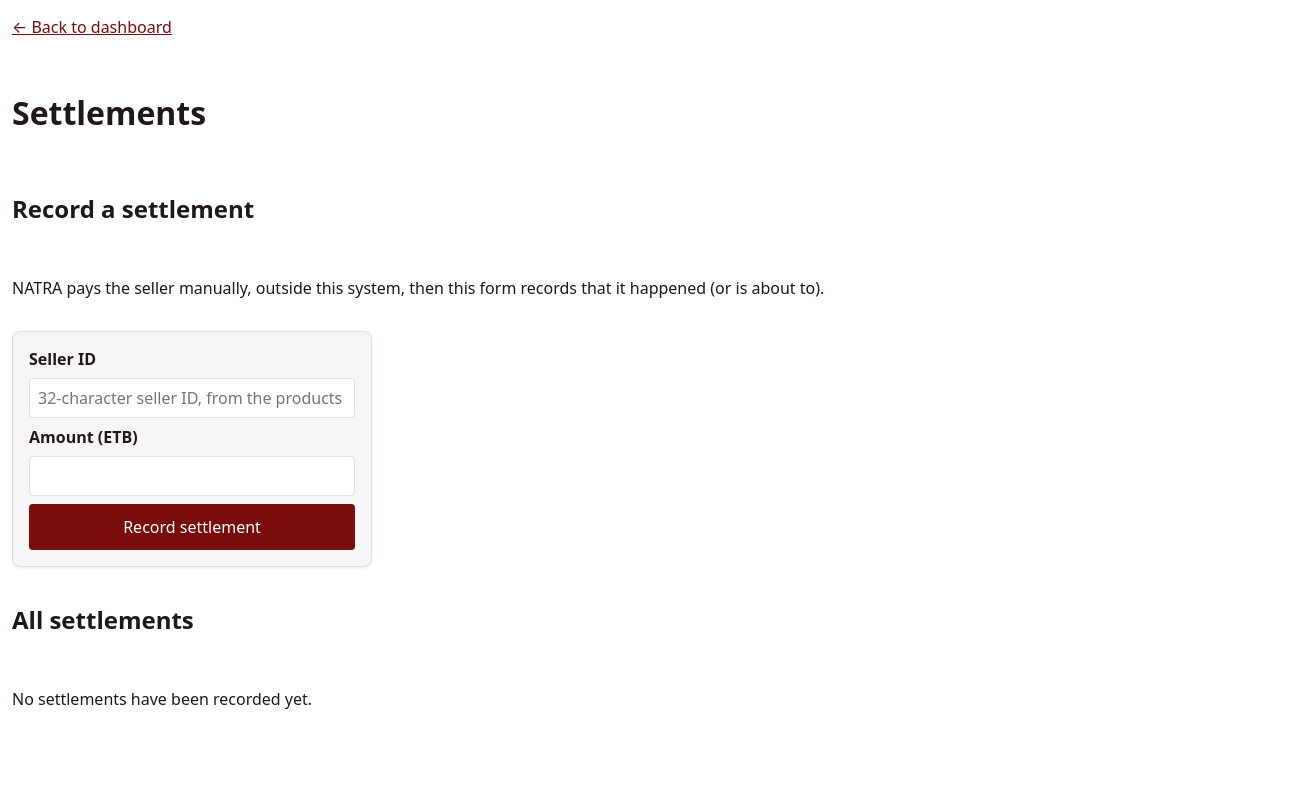
Test: AdminSettlements › records a settlement, prepends it to the list, and clears the form
Expected: the text "No settlements have been recorded yet." is shown, [12,688,312,710]
Type "  seller-1  " into the field labelled "Seller ID". click: (192, 398)
box: [29,378,355,418]
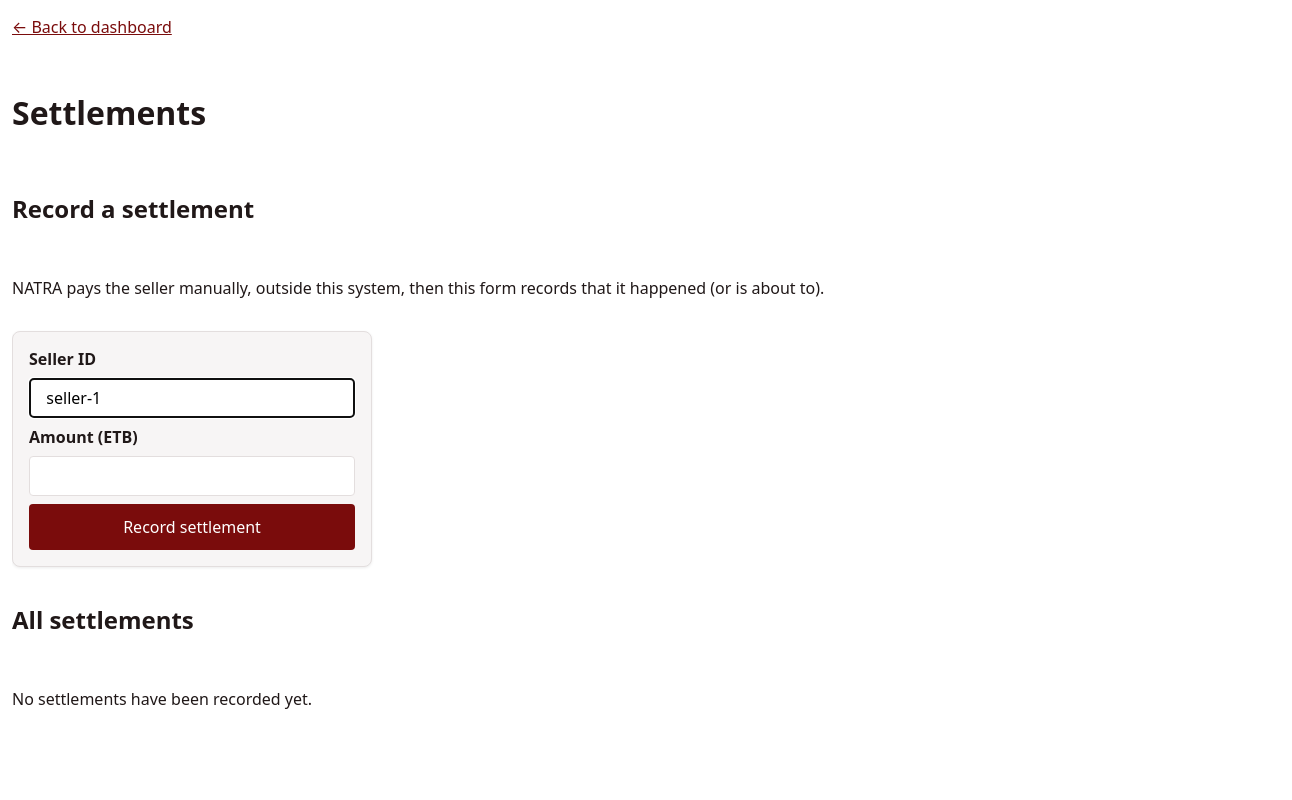
Type "450" into the number field labelled "Amount (ETB)". click: (192, 476)
box: [29,456,355,496]
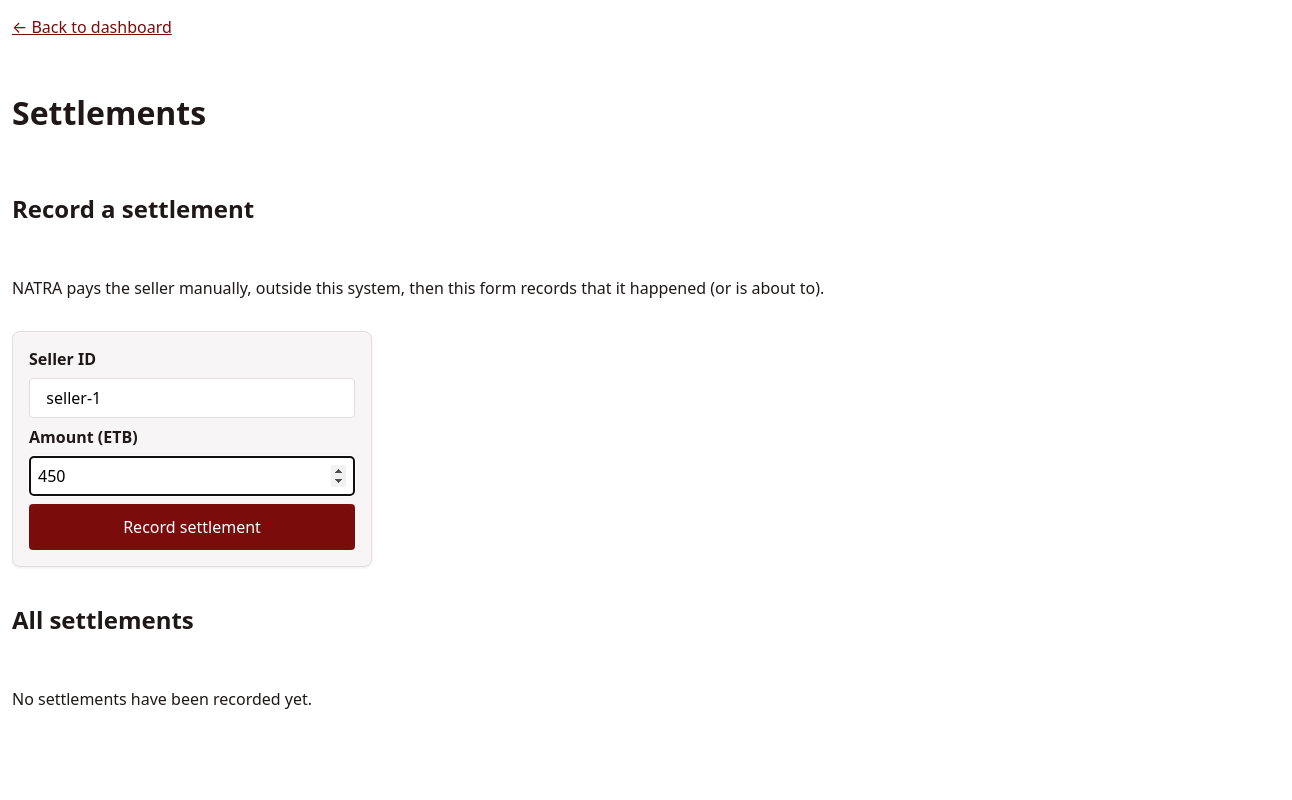
Click the button "Record settlement". click: (192, 527)
box: [29,504,355,550]
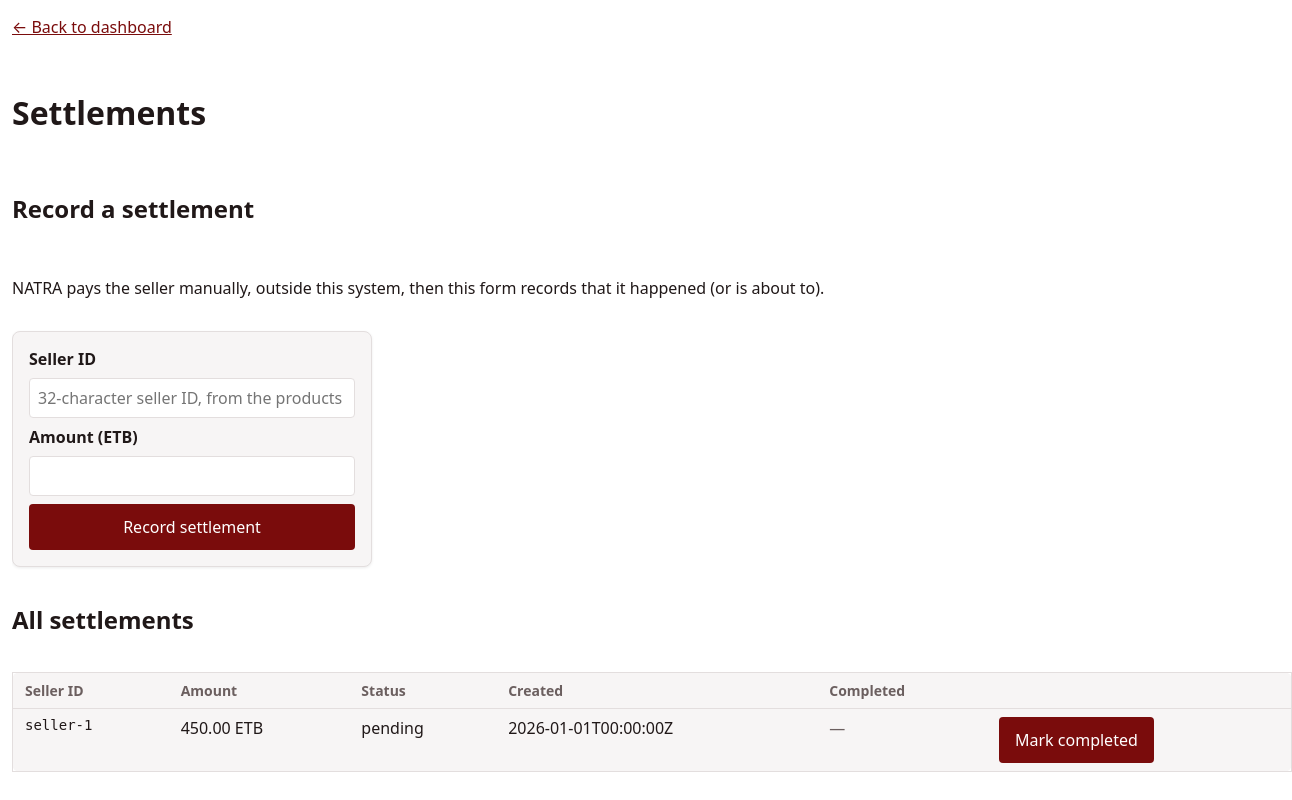
Expected: the text "seller-1" is shown, [12,708,169,771]
Expected: the field labelled "Seller ID" is empty, [29,378,355,418]
Expected: the number field labelled "Amount (ETB)" is not empty, [29,456,355,496]
